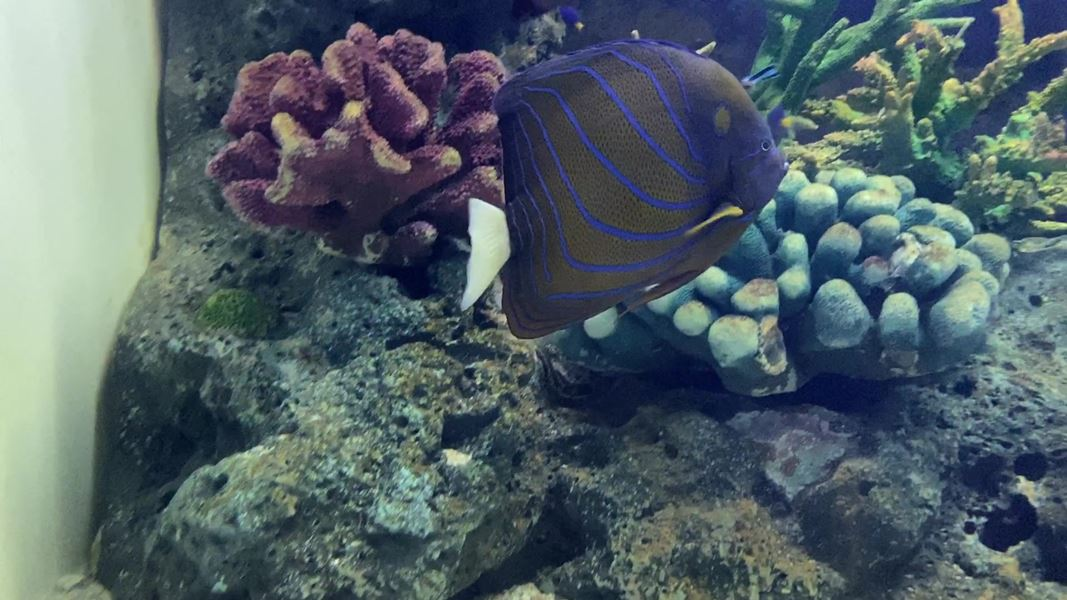Blue ring angelfish: (430, 25, 800, 359)
